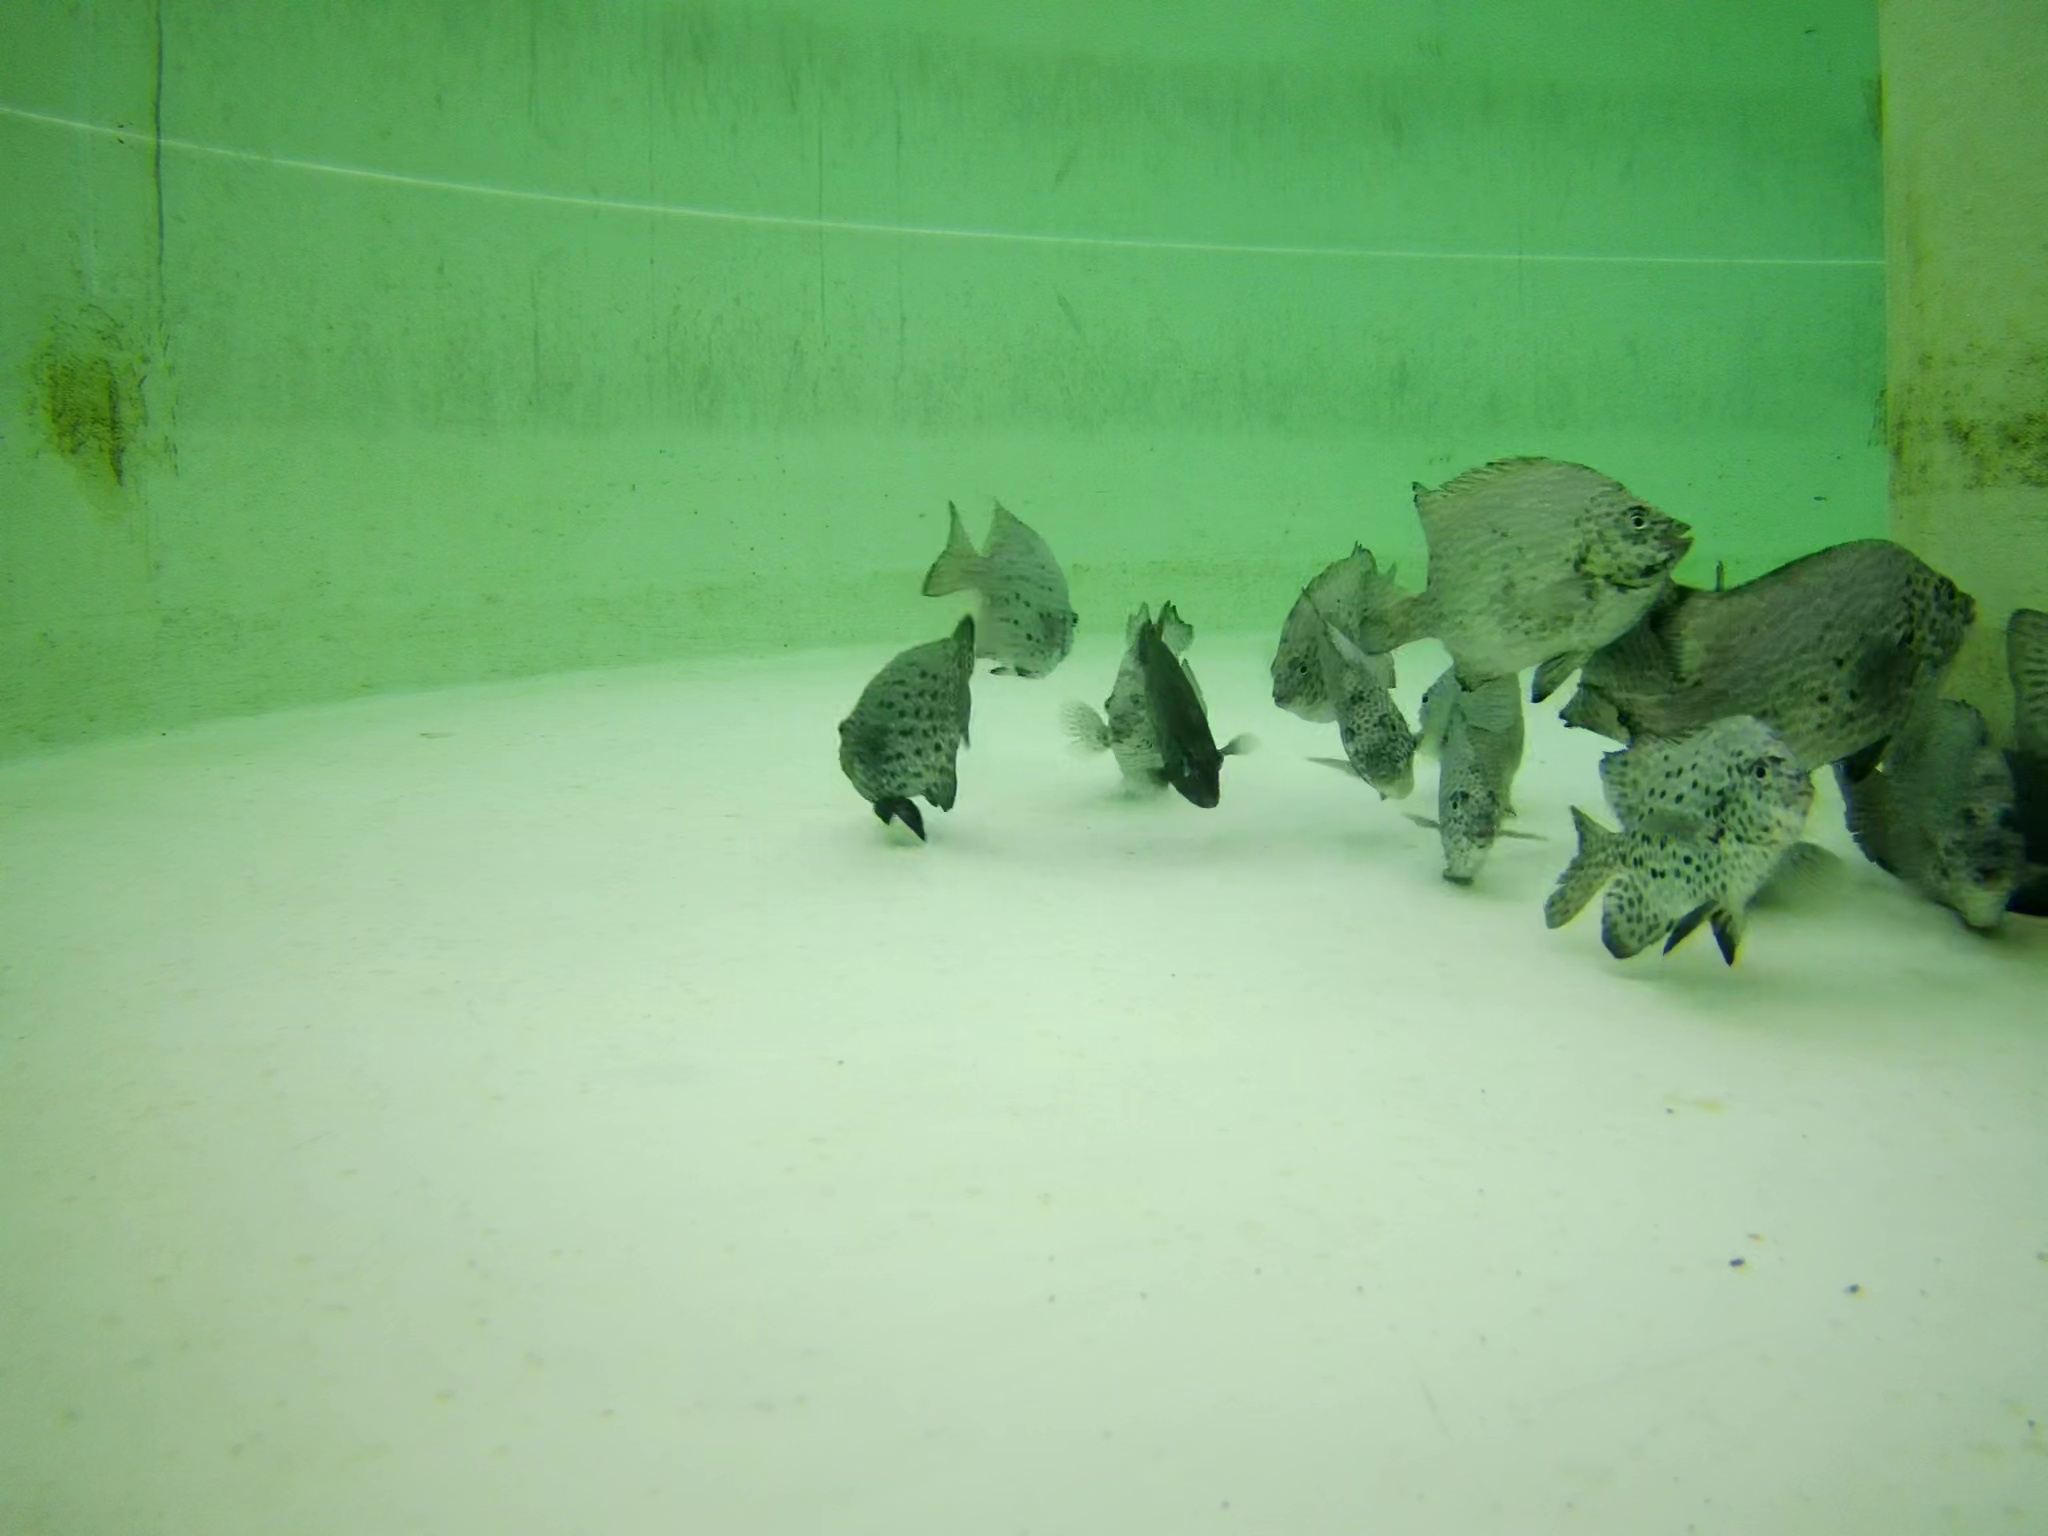fish: (1593, 532, 1967, 750), (1385, 444, 1692, 682), (1546, 731, 1817, 942), (839, 615, 972, 831), (1550, 581, 1742, 729), (924, 484, 1076, 668), (1846, 702, 1996, 876), (1263, 541, 1403, 702), (1090, 599, 1203, 786), (1303, 599, 1411, 791), (1609, 839, 1834, 925), (1145, 620, 1243, 807), (1430, 686, 1503, 883), (1958, 734, 2017, 947), (2003, 608, 2048, 755)
